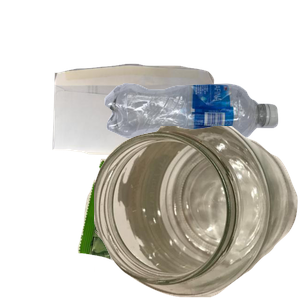glass: (94, 126, 300, 300)
paper: (50, 61, 257, 211)
plastic: (102, 81, 300, 216)
trash: (75, 156, 244, 300)
